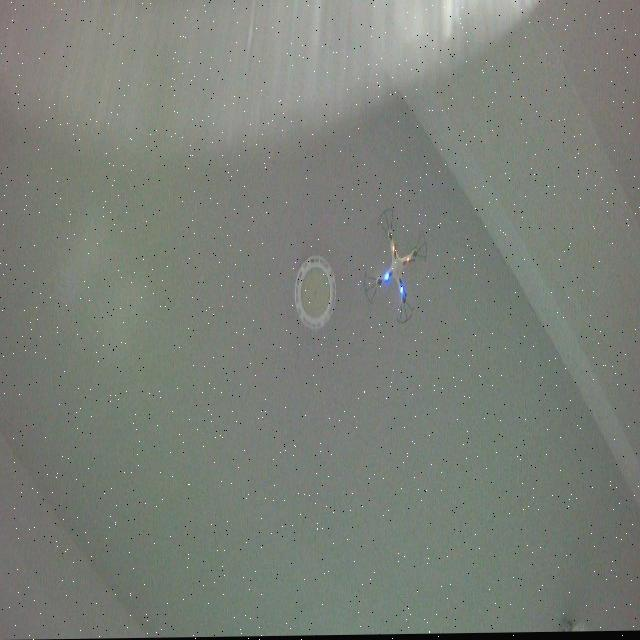drone: (362, 206, 428, 327)
